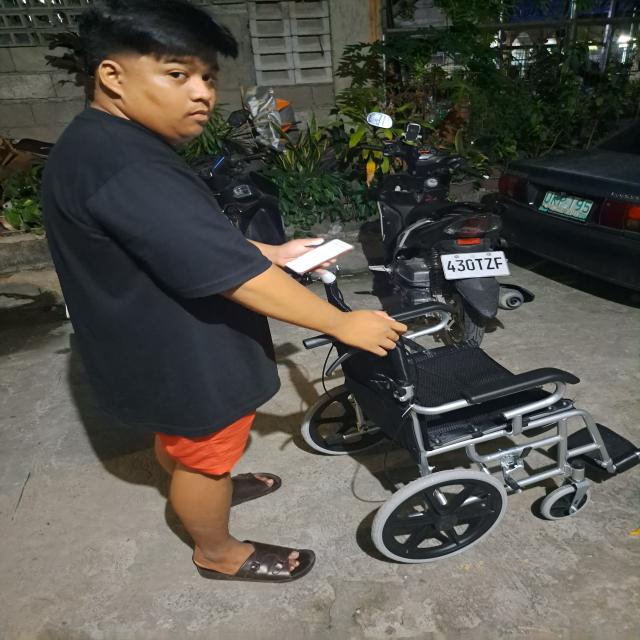wheelchairs: (290, 265, 640, 570)
